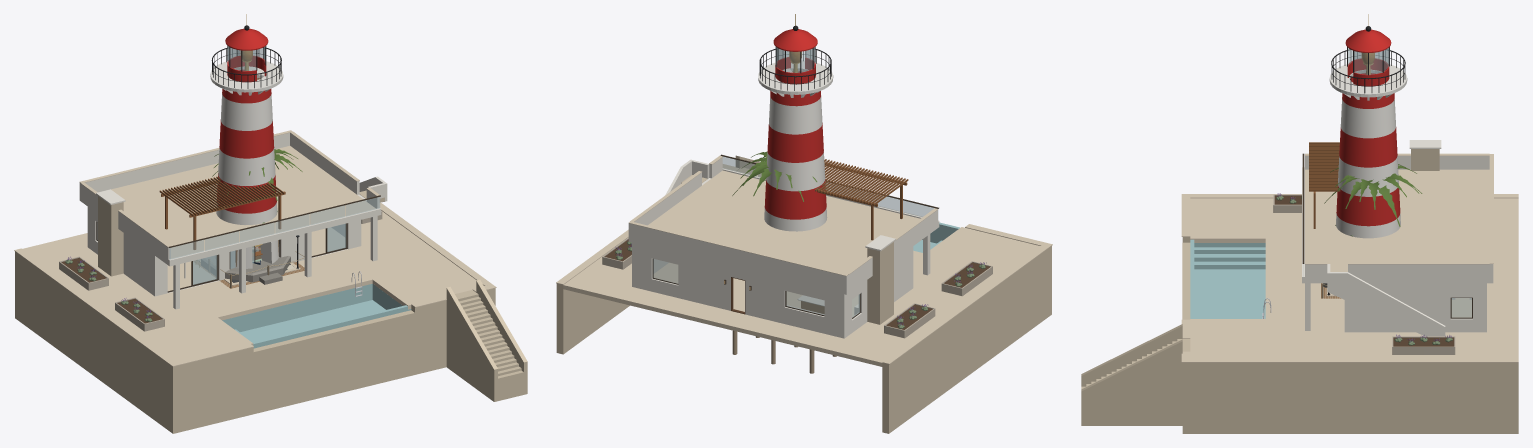
Rendered from kit.glb.
3 views of the same model, side by side, from view 1: azimuth 30°, elevation 25°; view 2: azimuth 150°, elevation 25°; view 3: azimuth 270°, elevation 25° (orthographic). The views are drawn at different scales.
Visible parts, largest first — view 1: Deck_mesh, Wall_Side_W_mesh, Roof_Deck_mesh, Retaining_Wall_Mid_mesh, Retaining_Wall_W_mesh, Step_Wall_1_mesh, Garden_Steps_mesh, Pool_Wall_N_mesh, Retaining_Wall_E_mesh, Parapet_Back_mesh, Wall_Front_mesh, Pool_Floor_mesh (+26 smaller); view 2: Deck_mesh, Roof_Deck_mesh, Wall_Side_W_mesh, Wall_Back_mesh, Parapet_Back_mesh, Wall_Side_E_mesh, Chimney_mesh, Tower_Band_3_mesh, Tower_Band_5_mesh, Roof_Slab_mesh, Tower_Band_4_mesh, Wall_West_mesh (+16 smaller); view 3: Wall_Side_E_mesh, Deck_mesh, Roof_Deck_mesh, Step_Wall_2_mesh, Wall_East_mesh, Pool_Floor_mesh, Stair_Wall_mesh, Parapet_East_A_mesh, Tower_Band_3_mesh, Tower_Band_5_mesh, Tower_Band_6_mesh, Coping_SideE_mesh (+21 smaller).
Part boxes in pixels (x1,y1,x2,y2): Deck_mesh: (22, 211, 484, 361); Wall_Side_W_mesh: (15, 251, 179, 433); Roof_Deck_mesh: (111, 146, 375, 258); Retaining_Wall_Mid_mesh: (253, 310, 414, 413); Retaining_Wall_W_mesh: (179, 347, 253, 432); Step_Wall_1_mesh: (446, 286, 497, 401); Garden_Steps_mesh: (455, 290, 523, 400); Pool_Wall_N_mesh: (222, 284, 372, 331); Retaining_Wall_E_mesh: (411, 300, 446, 374); Parapet_Back_mesh: (79, 133, 289, 196); Wall_Front_mesh: (153, 220, 361, 296); Pool_Floor_mesh: (240, 300, 385, 341); Deck_mesh: (563, 227, 1040, 366); Roof_Deck_mesh: (648, 170, 919, 273); Wall_Side_W_mesh: (882, 246, 1051, 433); Wall_Back_mesh: (632, 242, 846, 338); Parapet_Back_mesh: (628, 223, 848, 289); Wall_Side_E_mesh: (556, 283, 629, 354); Chimney_mesh: (867, 242, 893, 324); Tower_Band_3_mesh: (764, 179, 826, 219); Tower_Band_5_mesh: (767, 123, 823, 162); Roof_Slab_mesh: (628, 178, 939, 294); Tower_Band_4_mesh: (766, 151, 825, 191); Wall_West_mesh: (846, 247, 911, 336); Wall_Side_E_mesh: (1182, 362, 1518, 433); Deck_mesh: (1190, 198, 1518, 358); Roof_Deck_mesh: (1305, 169, 1489, 271); Step_Wall_2_mesh: (1081, 339, 1182, 425); Wall_East_mesh: (1348, 283, 1482, 332); Pool_Floor_mesh: (1194, 269, 1265, 318); Stair_Wall_mesh: (1327, 272, 1445, 336); Parapet_East_A_mesh: (1348, 264, 1490, 278); Tower_Band_3_mesh: (1336, 185, 1400, 226); Tower_Band_5_mesh: (1339, 127, 1397, 167); Tower_Band_6_mesh: (1340, 98, 1395, 138); Coping_SideE_mesh: (1190, 358, 1518, 362).
Bounding box in the file's own units: 25.1 × 23.95 × 27.65.
